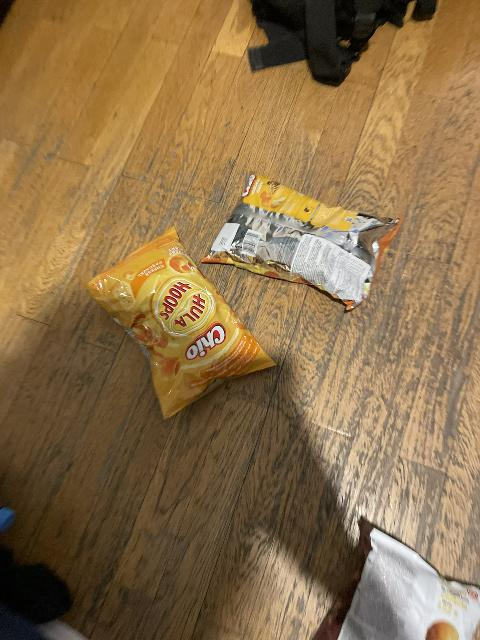Chio Cascaval 125g: (200, 174, 390, 313)
Chio Hula Hoops Cheese 70g: (84, 231, 281, 414)
